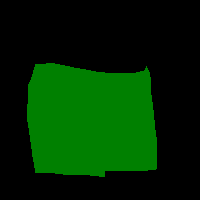mutande: (27, 63, 157, 177)
